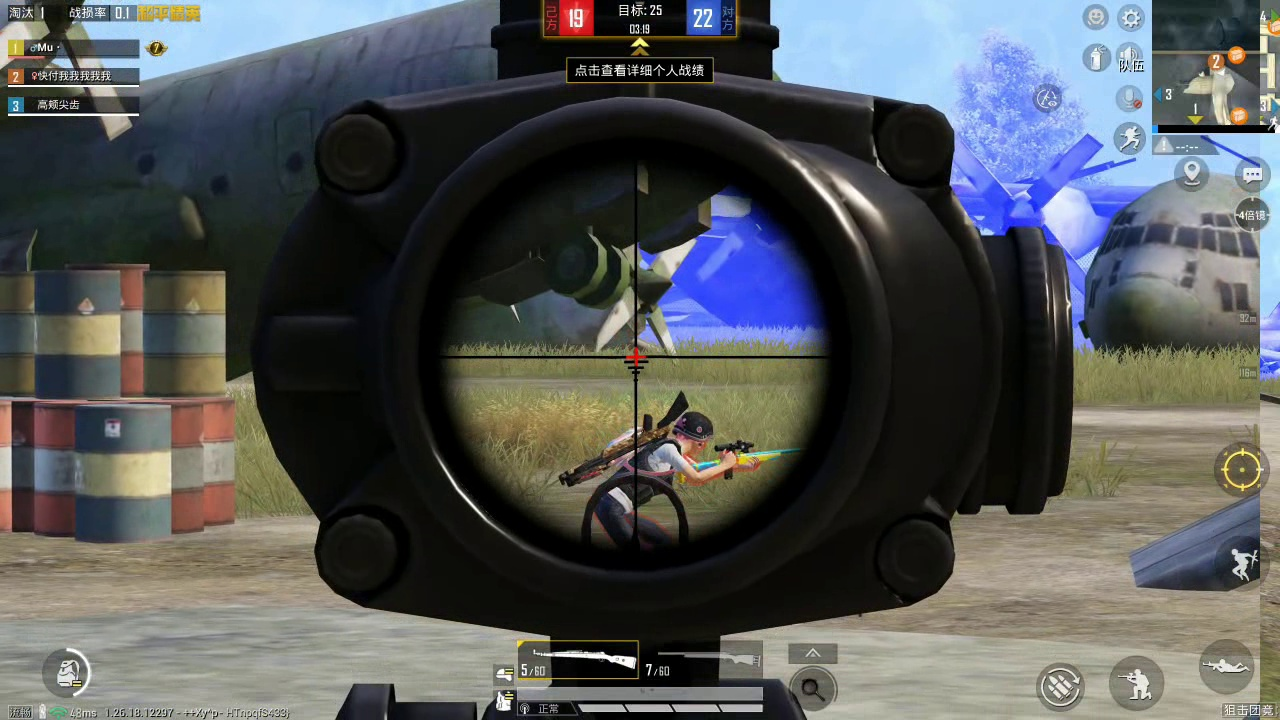enemy: (586, 404, 726, 550)
